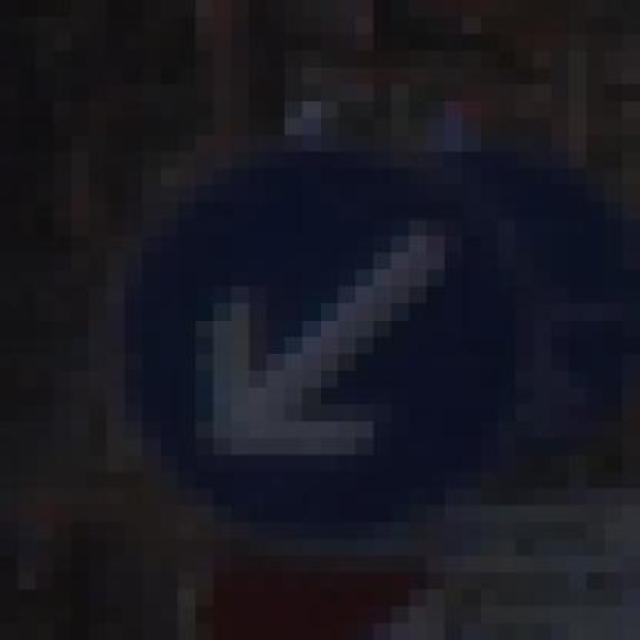Keep-Left: (89, 118, 552, 539)
